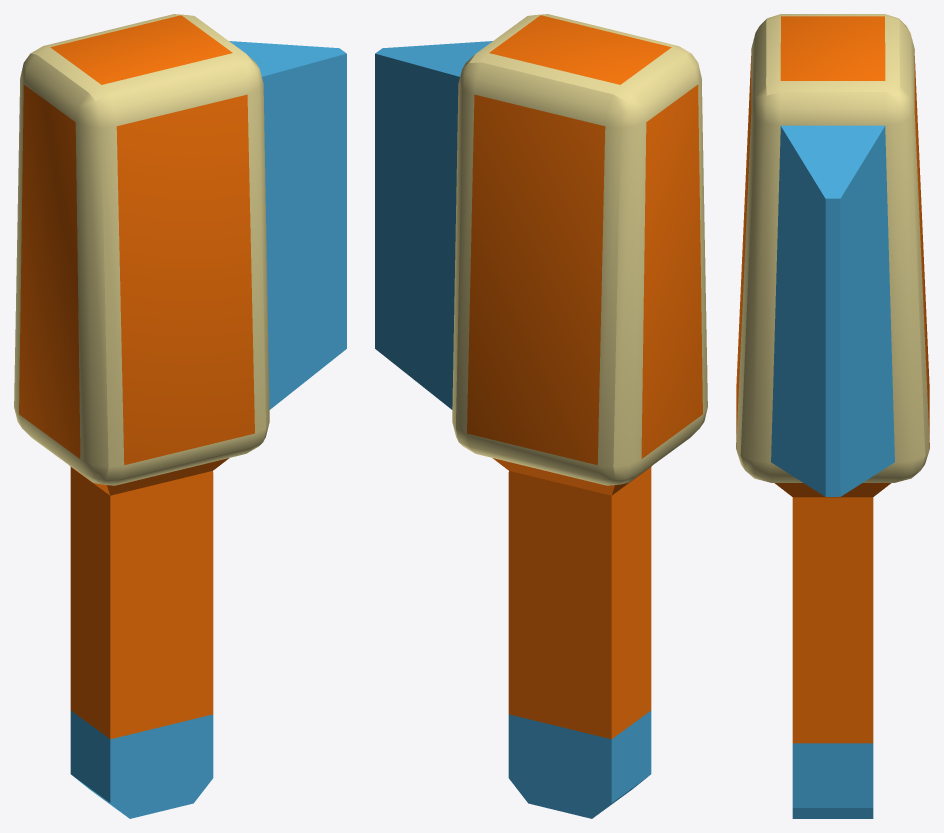
File: Ground_Hammer_04.fbx
3 renders of one model, left to right at view 1: azimuth 30°, elevation 25°; view 2: azimuth 150°, elevation 25°; view 3: azimuth 270°, elevation 25°, orthographic.
Parts seen in each view (by area): view 1: Obstacle_Ground_Hammer_04; view 2: Obstacle_Ground_Hammer_04; view 3: Obstacle_Ground_Hammer_04.
Part boxes in pixels (x1=…): Obstacle_Ground_Hammer_04: x1=14, y1=14, x2=346, y2=818; Obstacle_Ground_Hammer_04: x1=375, y1=14, x2=707, y2=818; Obstacle_Ground_Hammer_04: x1=736, y1=14, x2=929, y2=818.
Size of the model in its own units: 120 by 292 by 68.06.
Materials: 1 (1 with a texture image).
